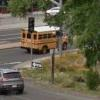buses: (19, 25, 64, 56)
